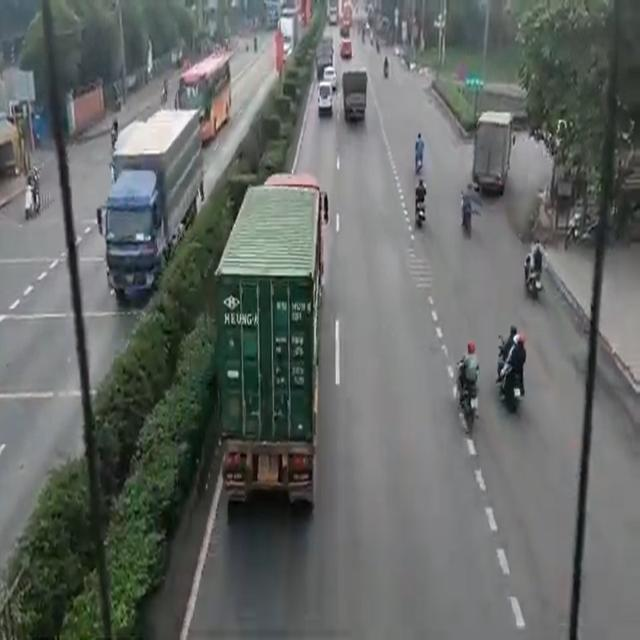bus: (193, 60, 228, 138)
motor: (498, 331, 522, 431), (455, 350, 477, 420), (525, 246, 543, 299), (412, 178, 428, 236)
truck: (221, 179, 320, 510), (106, 103, 202, 294), (475, 114, 513, 196), (344, 70, 368, 138), (317, 76, 331, 117)
